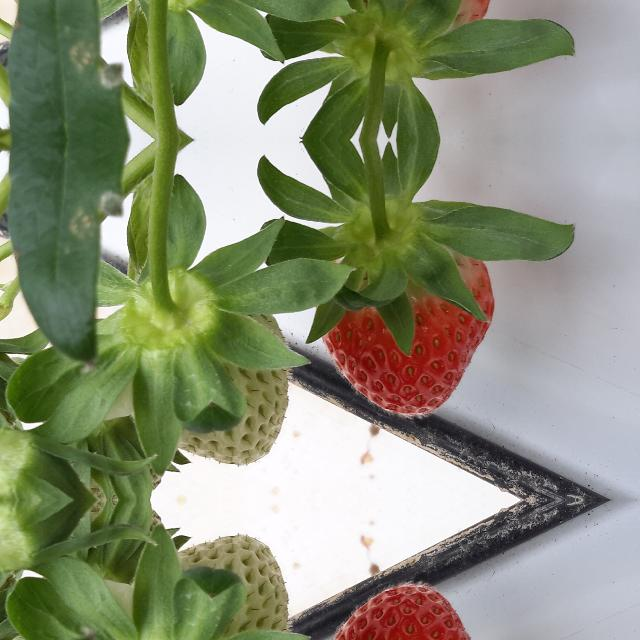Health_100: (322, 260, 494, 420), (322, 580, 494, 640)
Health_25: (133, 282, 290, 466), (132, 534, 289, 640)
